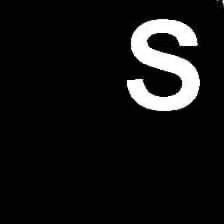LTR_S: (125, 13, 201, 112)
